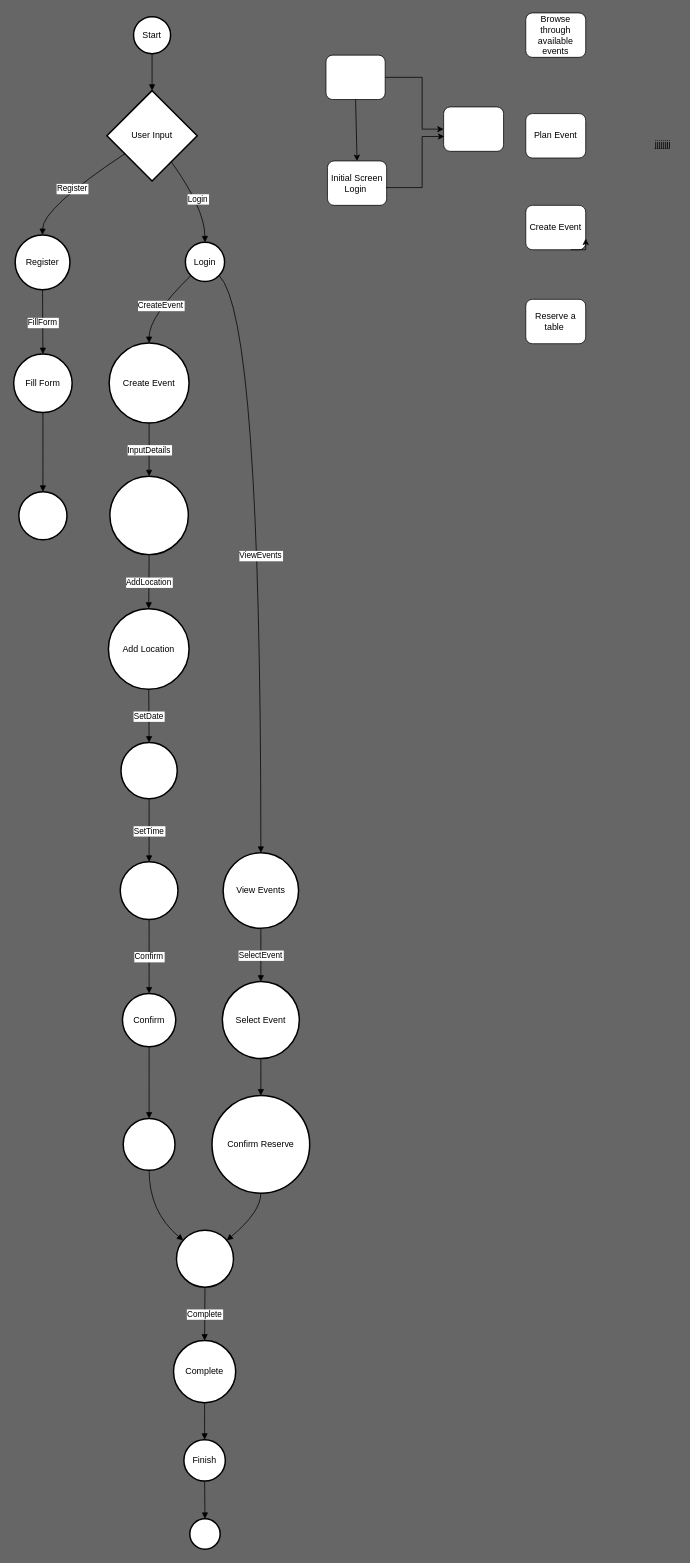
This 690x1563 diagram has some shape labels left out. Here are the shapes that lost their labels. From the top down, the centre of each, then its label:
(x=355, y=77): Initial Screen Register
(x=473, y=128): Home Screen
(x=42, y=515): Submit
(x=149, y=515): Input Details
(x=149, y=770): Set Date
(x=148, y=890): Set Time
(x=148, y=1144): Reserve
(x=204, y=1258): Payment
(x=205, y=1534): End
